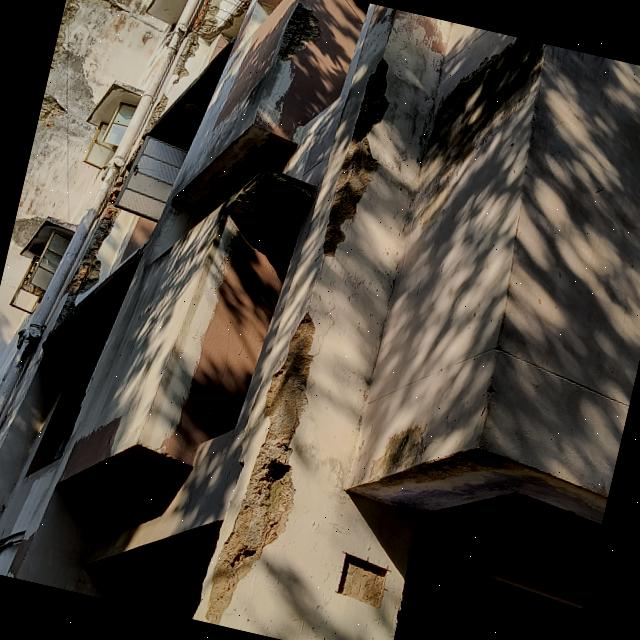Corrosion stain: (108, 12, 138, 46)
Spalling: (206, 313, 314, 624), (322, 59, 388, 256), (65, 148, 138, 313), (65, 203, 119, 313), (172, 0, 222, 81), (277, 3, 320, 60), (142, 97, 166, 136), (285, 16, 315, 46), (38, 95, 63, 125), (224, 0, 249, 27)
